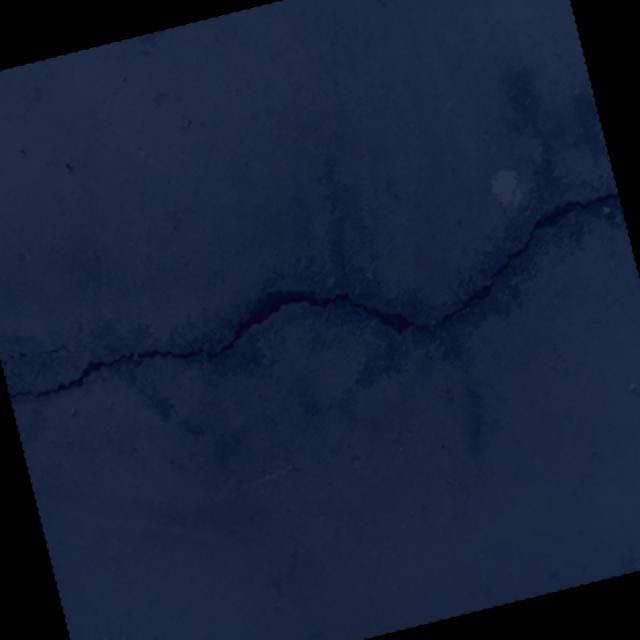crack: (0, 187, 639, 432), (0, 332, 106, 372)
